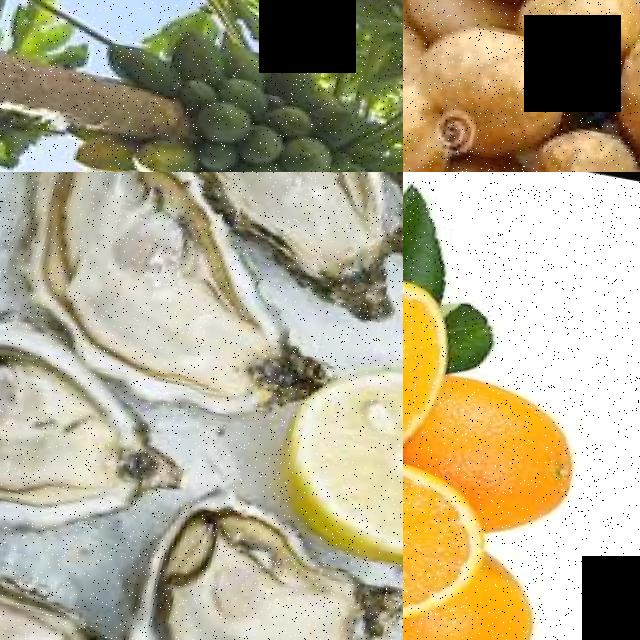lemon: (274, 354, 403, 573)
orange: (418, 364, 600, 507), (403, 440, 494, 629), (403, 257, 467, 455)
oysters: (19, 188, 318, 420), (0, 328, 184, 555), (125, 507, 403, 640), (173, 172, 403, 327), (0, 556, 132, 640)
pawpaw: (101, 36, 189, 92), (73, 126, 147, 172), (194, 96, 256, 146), (132, 134, 209, 172), (282, 131, 339, 172), (223, 158, 295, 172)
peanuts: (403, 11, 575, 167)
